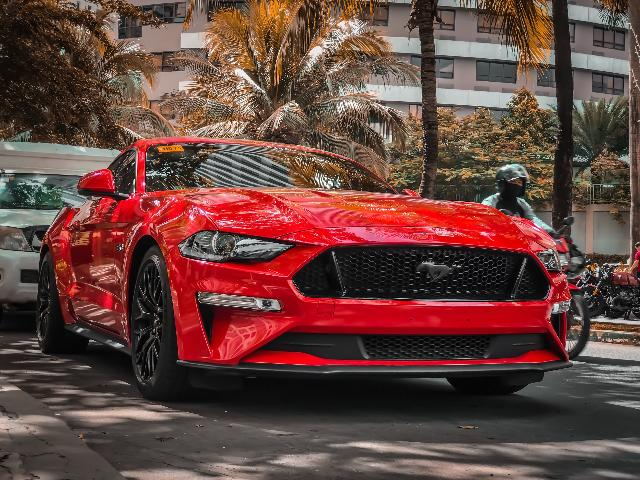ford-mustang: (36, 138, 574, 398)
